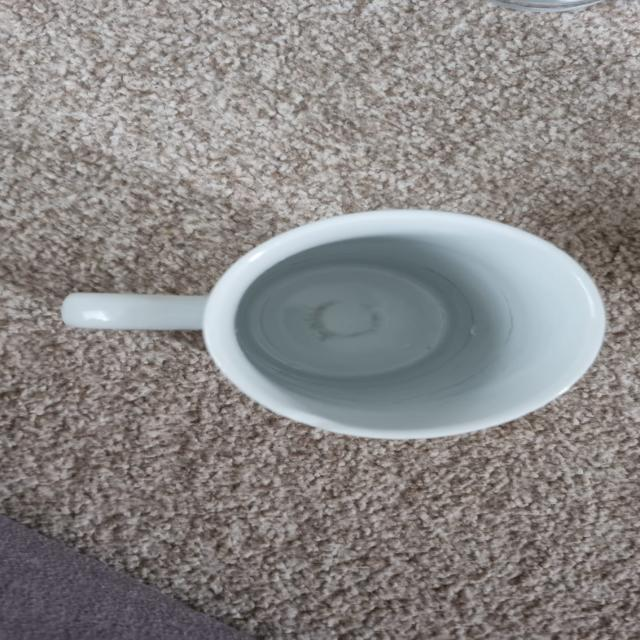Cup: (62, 210, 605, 439)
